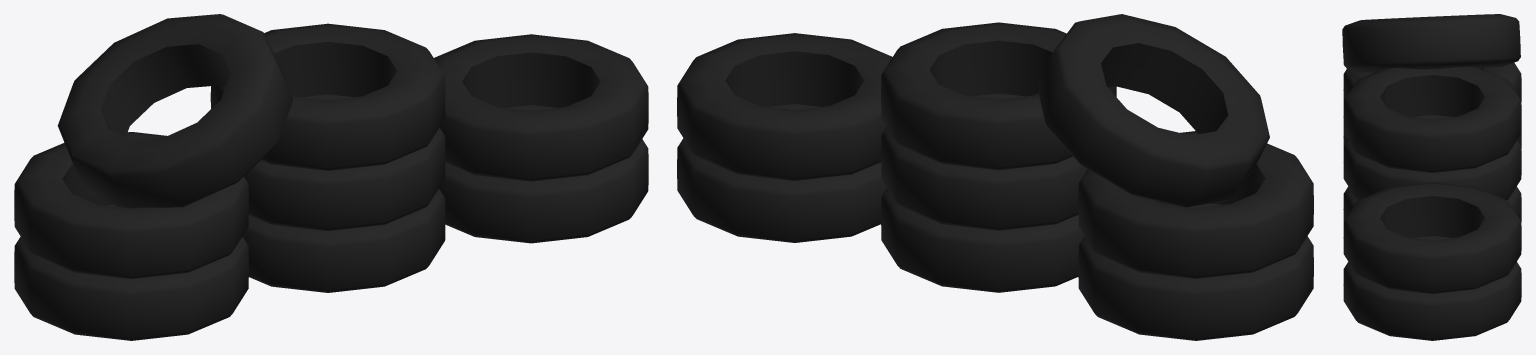
The model's file is SM_Tire_Pack_01.fbx.
3 renders of one model, left to right at view 1: azimuth 30°, elevation 25°; view 2: azimuth 150°, elevation 25°; view 3: azimuth 270°, elevation 25°, orthographic. The views are drawn at different scales.
Parts seen in each view (by area): view 1: SM_Tire_Pack_01; view 2: SM_Tire_Pack_01; view 3: SM_Tire_Pack_01.
Part boxes in pixels (x1,y1,x2,y2): SM_Tire_Pack_01: (14, 14, 648, 340); SM_Tire_Pack_01: (677, 14, 1313, 340); SM_Tire_Pack_01: (1342, 14, 1521, 340).
Size of the model in its own units: 619 by 238 by 210.
